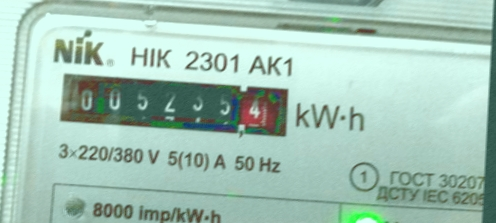0: (77, 87, 95, 113), (107, 86, 122, 112)
2: (162, 88, 177, 114)
3: (190, 87, 205, 113)
4: (246, 94, 263, 121)
5: (216, 90, 233, 118), (134, 86, 150, 113)
screen: (49, 64, 301, 146)
